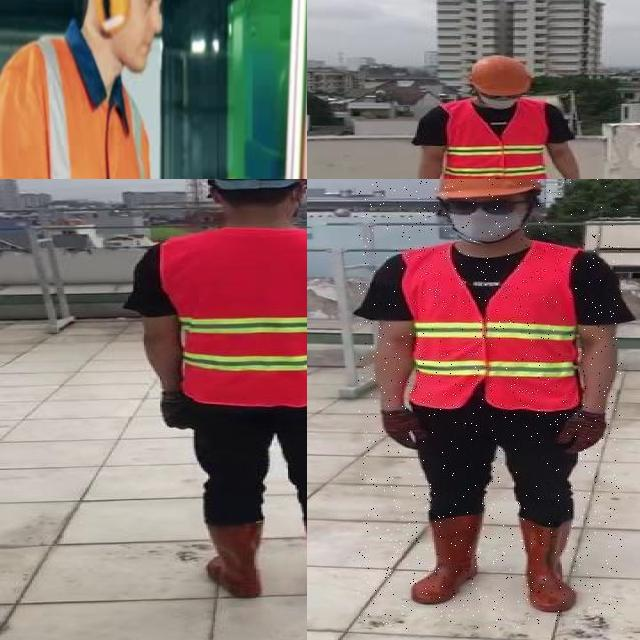Ear-protection: (82, 0, 165, 76)
No_Glasses: (139, 0, 165, 26)
boots: (409, 513, 480, 605), (516, 516, 578, 612), (203, 520, 265, 599)
face_mask: (478, 90, 523, 110)
hand_glove: (163, 390, 196, 430)
head_helmet: (467, 54, 534, 96), (425, 179, 543, 200)
person: (358, 179, 622, 629), (129, 179, 307, 603), (413, 50, 592, 179)
vest: (406, 242, 582, 412), (158, 229, 307, 404), (436, 100, 551, 179)
